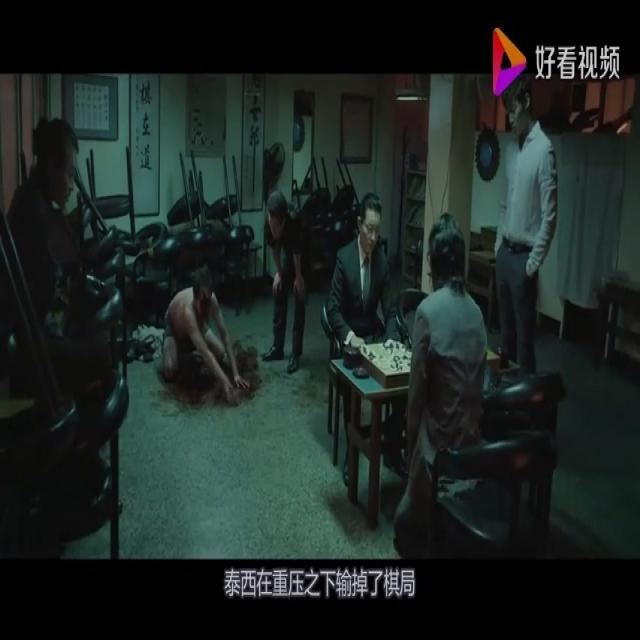non-fight: (388, 201, 488, 521), (327, 194, 404, 485), (152, 277, 264, 415), (261, 181, 314, 382)
